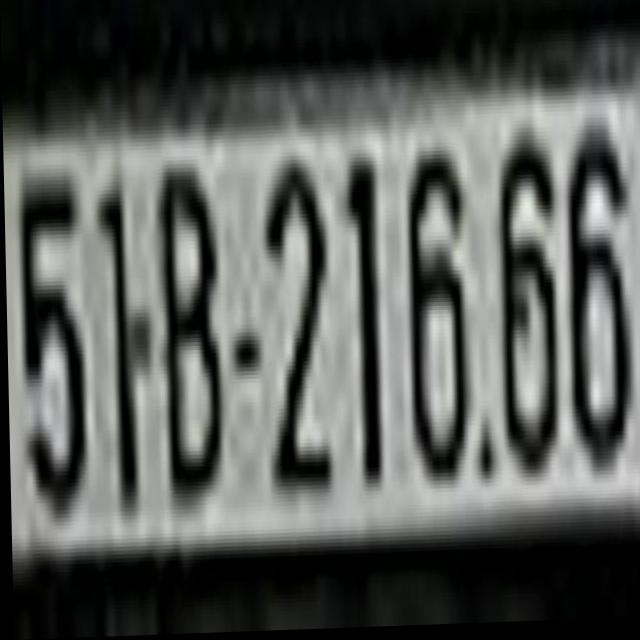1: (95, 155, 140, 513), (343, 133, 384, 510)
2: (262, 149, 337, 520)
5: (16, 153, 87, 531)
6: (564, 102, 633, 488), (496, 115, 559, 490), (405, 150, 466, 500)
B: (155, 145, 221, 508)
